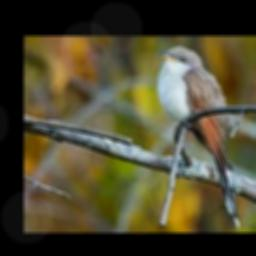Cuckoo: (158, 46, 240, 229)
